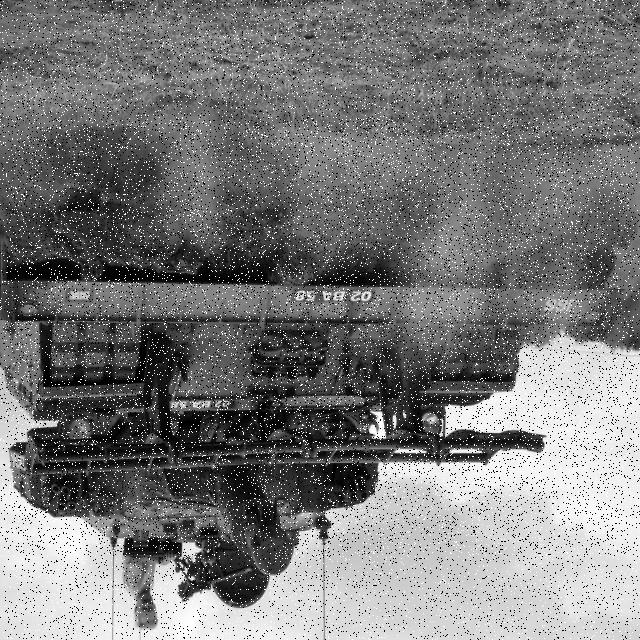MIL_MBT: (6, 118, 634, 556)
